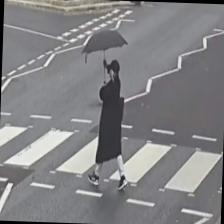person: (86, 57, 130, 191)
